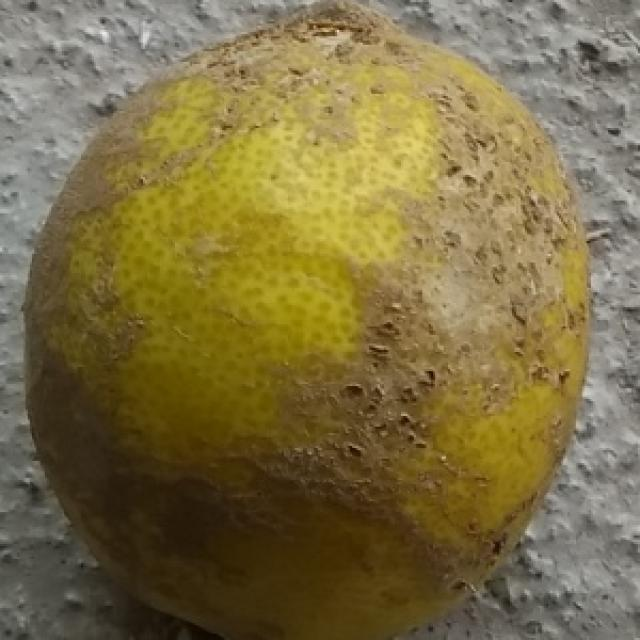overripe: (23, 0, 594, 640)
